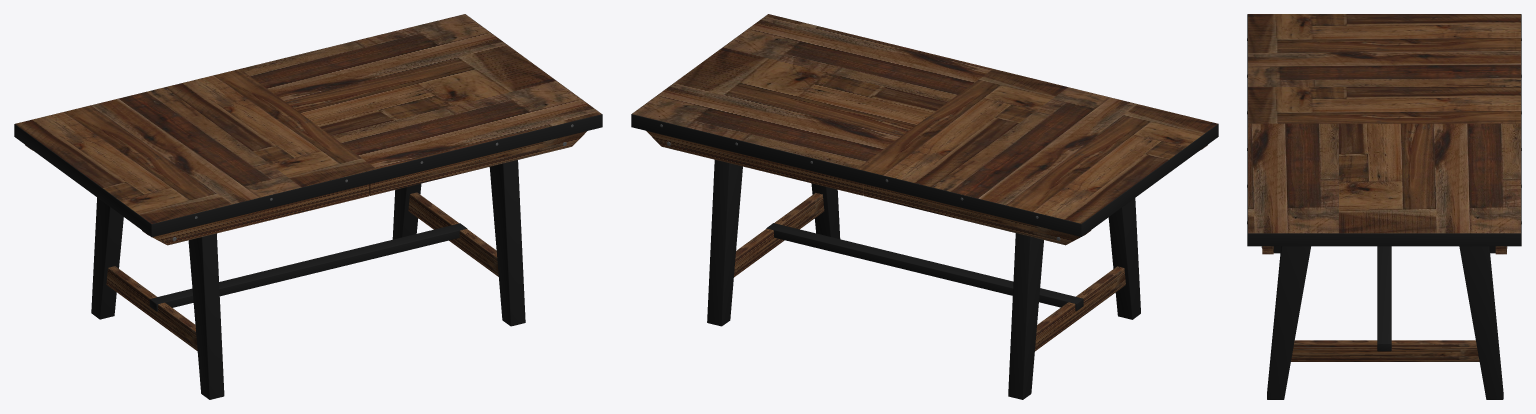
The picture shows the model from 3 angles, left to right: view 1: azimuth 30°, elevation 25°; view 2: azimuth 150°, elevation 25°; view 3: azimuth 270°, elevation 25°; orthographic projection.
Parts seen in each view (by area): view 1: Buffer Layer (×3), Cube_15, Cube_11, Cube_8, Cube_14, Cube_5, Cube_3, Cube_9, Cube_10, Cube_13; view 2: Buffer Layer (×3), Cube_14, Cube_13, Cube_8, Cube_7, Cube_2, Cube_11, Cube_9, Cube_10, Cube_15; view 3: Buffer Layer (×3), Cube_10, Cube_13, Cube_15, Cube_8.
Part boxes in pixels (bbox=[...]): Buffer Layer (×3): bbox=[14, 14, 602, 237]; Cube_15: bbox=[489, 160, 525, 326]; Cube_11: bbox=[188, 233, 224, 399]; Cube_8: bbox=[149, 223, 467, 311]; Cube_14: bbox=[91, 197, 123, 319]; Cube_5: bbox=[369, 131, 586, 195]; Cube_3: bbox=[142, 184, 369, 245]; Cube_9: bbox=[106, 266, 197, 350]; Cube_10: bbox=[408, 192, 498, 276]; Cube_13: bbox=[392, 183, 421, 239]; Buffer Layer (×3): bbox=[631, 14, 1218, 236]; Cube_14: bbox=[1008, 233, 1043, 399]; Cube_13: bbox=[707, 160, 742, 326]; Cube_8: bbox=[766, 223, 1083, 311]; Cube_7: bbox=[864, 184, 1091, 245]; Cube_2: bbox=[646, 131, 863, 195]; Cube_11: bbox=[1108, 198, 1140, 319]; Cube_9: bbox=[1035, 266, 1125, 351]; Cube_10: bbox=[734, 193, 824, 277]; Cube_15: bbox=[811, 183, 840, 238]; Buffer Layer (×3): bbox=[1247, 14, 1521, 246]; Cube_10: bbox=[1291, 340, 1479, 361]; Cube_13: bbox=[1459, 246, 1503, 399]; Cube_15: bbox=[1267, 246, 1310, 399]; Cube_8: bbox=[1377, 246, 1391, 351].
Bounding box in the file's own units: 0.596 × 0.252 × 0.3151.
Materials: 5 (2 with a texture image).
